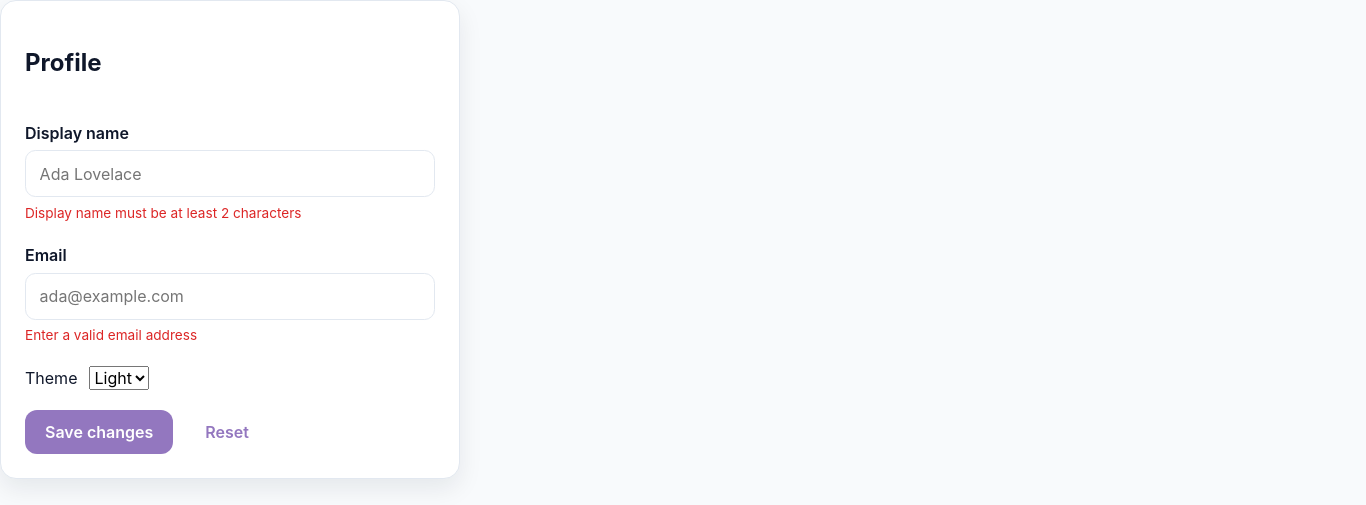
Test: SettingsPage › validates inputs and saves
The image size is (1366, 505).
Expected: the button "Save changes" is disabled, [25,410,173,454]
Type "A" into the field labelled "Display name" at (230, 174), box [25,150,435,197]
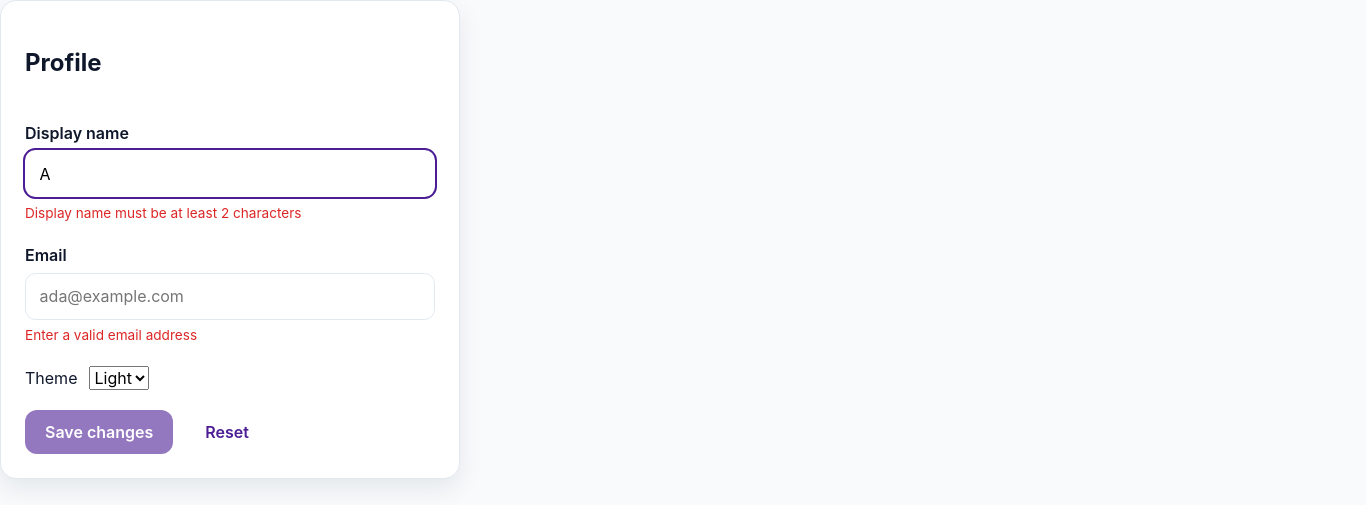
Type "not-an-email" into the field labelled "Email" at (230, 296), box [25,273,435,320]
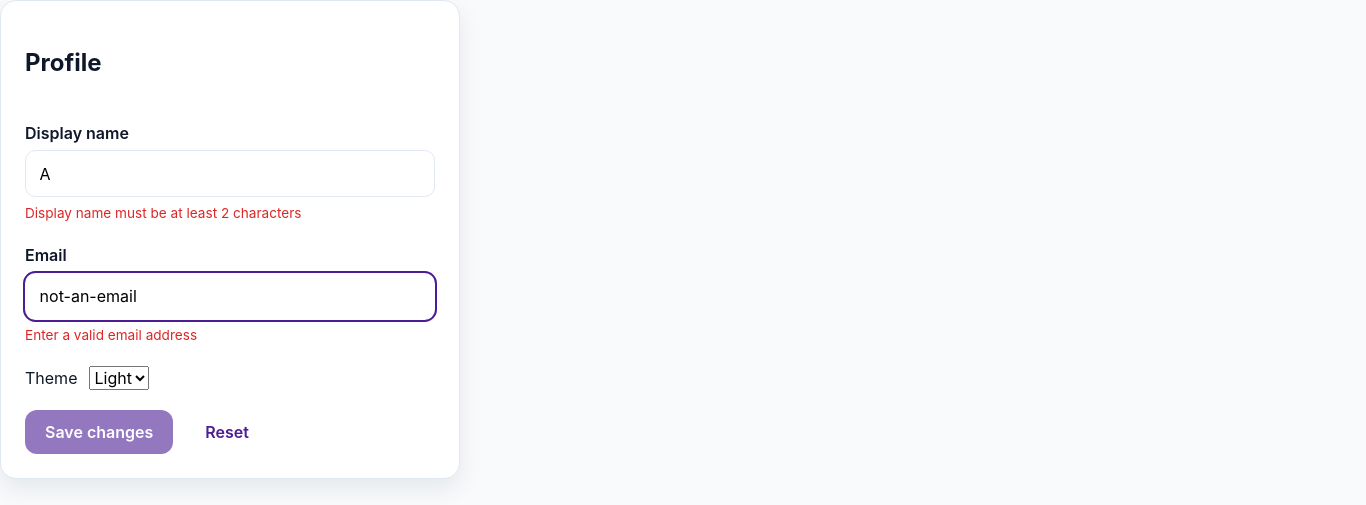
Expected: the text "Display name must be at least 2 characters" is shown, [25,205,302,221]
Expected: the text "Enter a valid email address" is shown, [25,327,197,343]
Replace the text in the field labelled "Display name" with "Newton" at (230, 174), box [25,150,435,197]
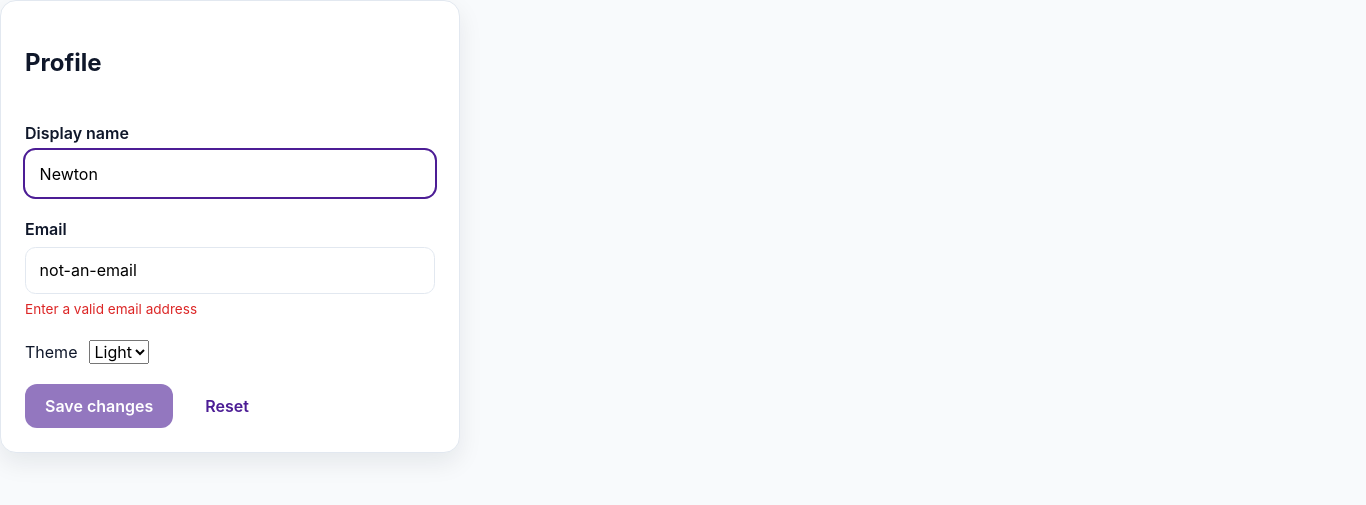
Replace the text in the field labelled "Email" with "newton@example.com" at (230, 270), box [25,247,435,294]
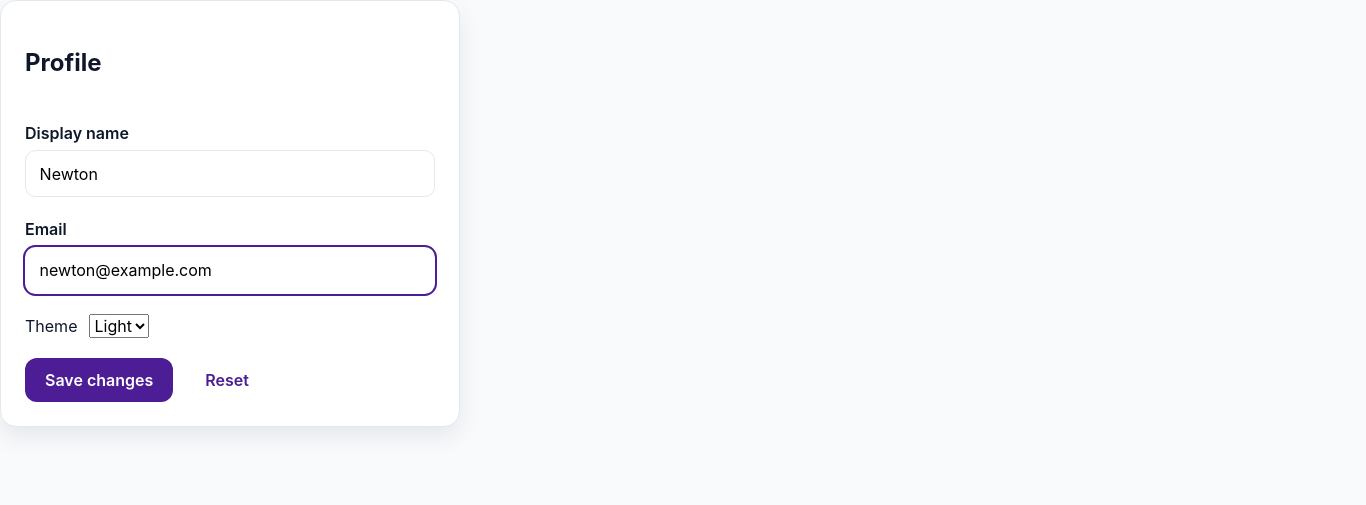
Expected: the button "Save changes" is enabled
Click the button "Save changes" at (99, 380), box [25,358,173,402]
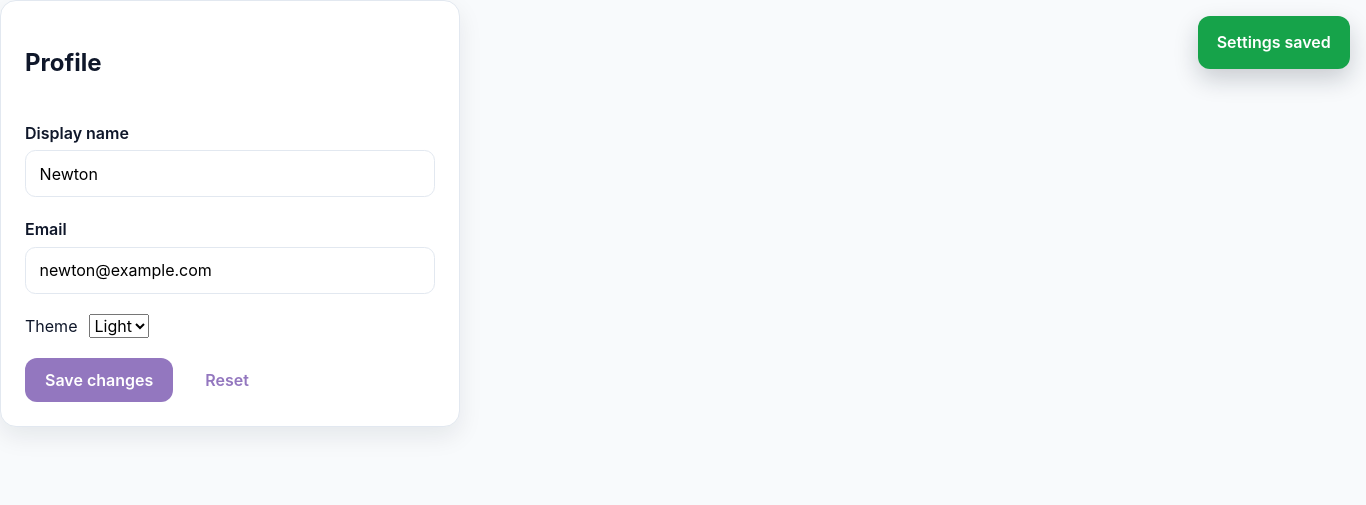
Expected: the text "Settings saved" is shown, [1198,16,1350,69]
